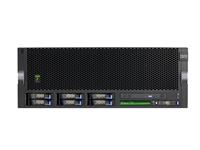ibm-server: (11, 42, 192, 111)
